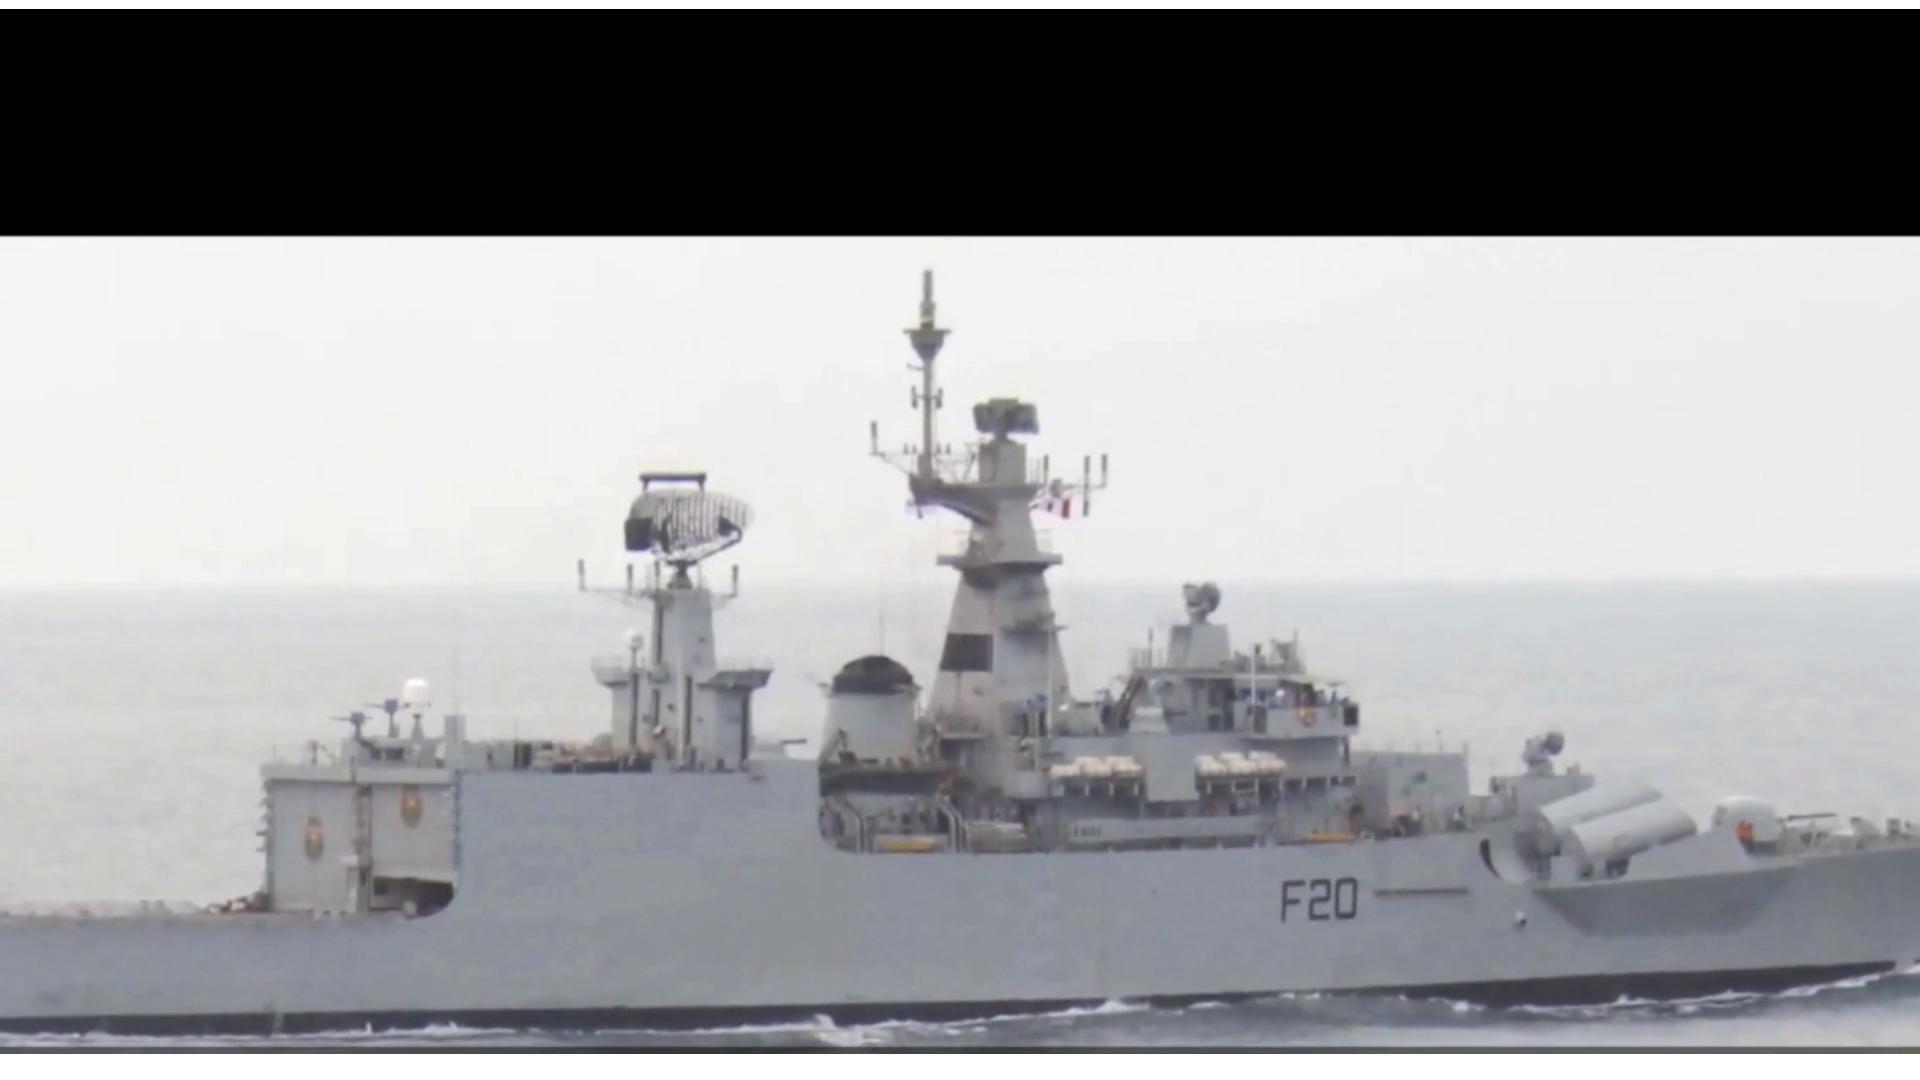OCR: (1261, 862, 1366, 931)
